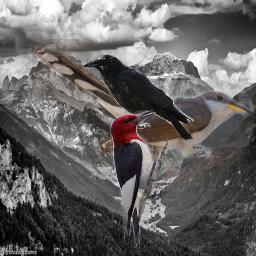Crow: (82, 54, 194, 140)
Cuckoo: (32, 39, 256, 183)
Woodpecker: (110, 110, 168, 249)
